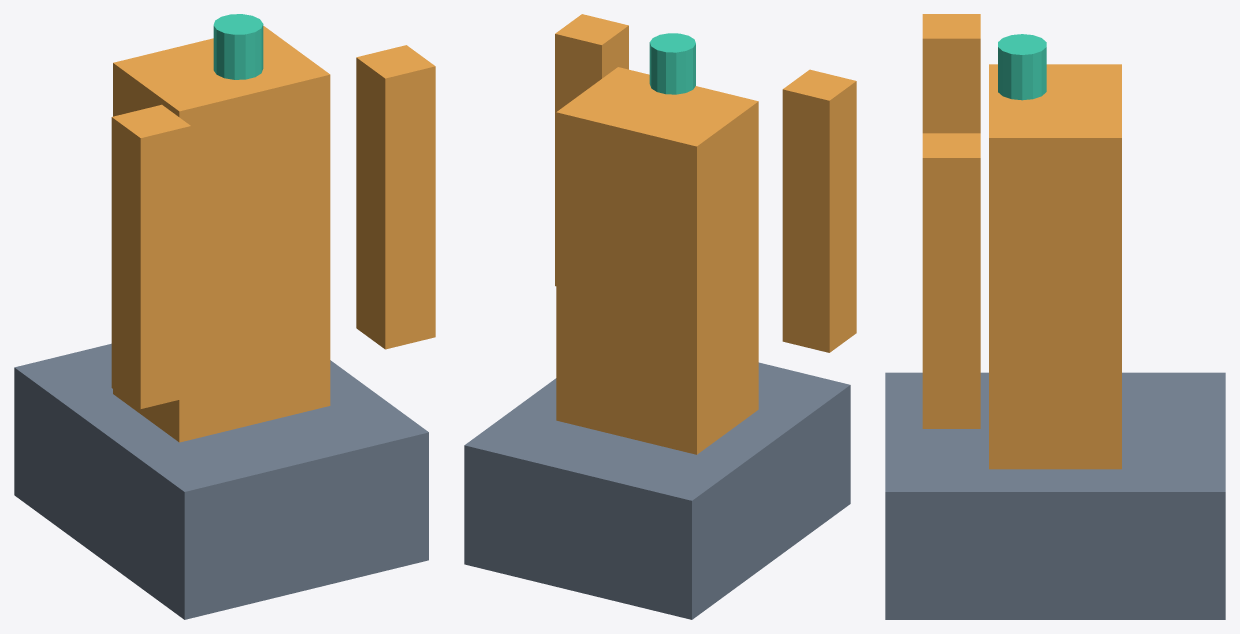
The model's file is E27-BOT-ASM_public_shell.glb.
The picture shows the model from 3 angles, left to right: view 1: azimuth 30°, elevation 25°; view 2: azimuth 150°, elevation 25°; view 3: azimuth 270°, elevation 25°; orthographic projection. The views are drawn at different scales.
Visible parts, largest first — view 1: BL-04-ARM | T700S Carbon Bimanual 7-DOF Arms and Torso, BL-01-CHS | 680mm Omnidirectional Mecanum Base, BL-09-POD | 22.08g IP69K 520nm Laser AR Projection Pod; view 2: BL-04-ARM | T700S Carbon Bimanual 7-DOF Arms and Torso, BL-01-CHS | 680mm Omnidirectional Mecanum Base, BL-09-POD | 22.08g IP69K 520nm Laser AR Projection Pod; view 3: BL-04-ARM | T700S Carbon Bimanual 7-DOF Arms and Torso, BL-01-CHS | 680mm Omnidirectional Mecanum Base, BL-09-POD | 22.08g IP69K 520nm Laser AR Projection Pod.
Boxes of the visible parts, <box> form: BL-04-ARM | T700S Carbon Bimanual 7-DOF Arms and Torso: <box>111,26,435,442</box>; BL-01-CHS | 680mm Omnidirectional Mecanum Base: <box>14,343,428,619</box>; BL-09-POD | 22.08g IP69K 520nm Laser AR Projection Pod: <box>213,14,263,79</box>; BL-04-ARM | T700S Carbon Bimanual 7-DOF Arms and Torso: <box>555,14,856,454</box>; BL-01-CHS | 680mm Omnidirectional Mecanum Base: <box>464,362,850,619</box>; BL-09-POD | 22.08g IP69K 520nm Laser AR Projection Pod: <box>649,33,695,94</box>; BL-04-ARM | T700S Carbon Bimanual 7-DOF Arms and Torso: <box>922,14,1121,469</box>; BL-01-CHS | 680mm Omnidirectional Mecanum Base: <box>885,372,1225,619</box>; BL-09-POD | 22.08g IP69K 520nm Laser AR Projection Pod: <box>998,34,1046,100</box>.
Size of the model in its own units: 0.82 by 1.37 by 0.82.
